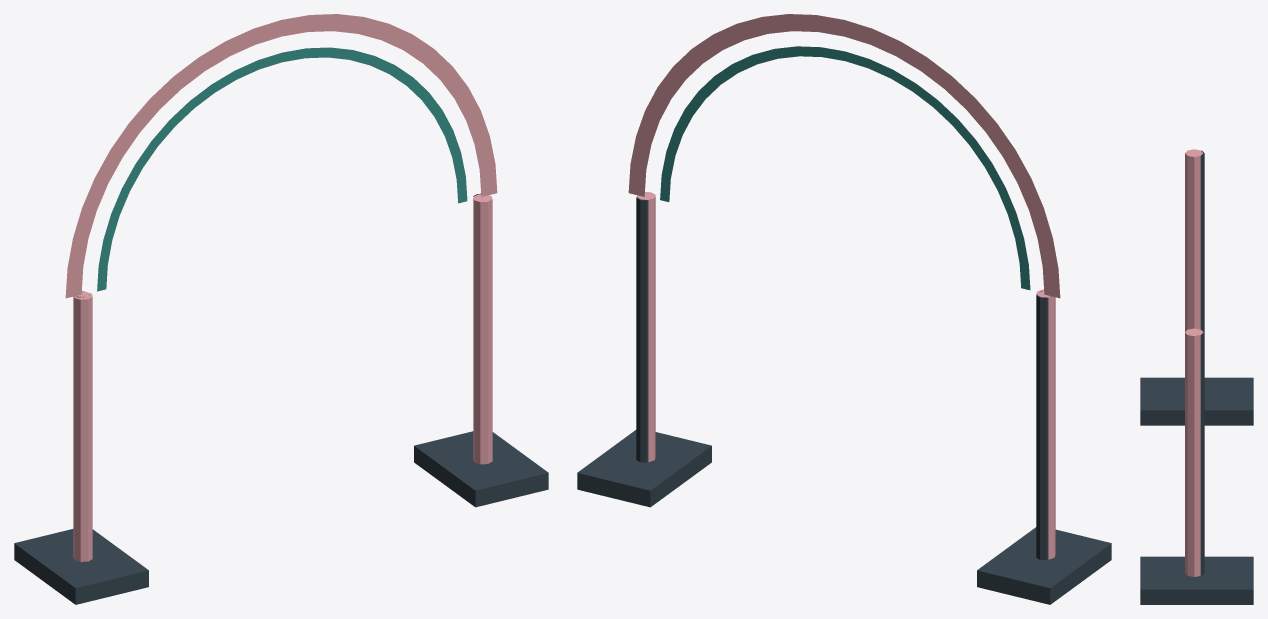
Rendered from neon_arch.glb.
3 renders of one model, left to right at view 1: azimuth 30°, elevation 25°; view 2: azimuth 150°, elevation 25°; view 3: azimuth 270°, elevation 25°, orthographic. The views are drawn at different scales.
Parts seen in each view (by area): view 1: neon_crown, foot.001, foot, inner_glow, neon_upright.001, neon_upright; view 2: neon_crown, foot.001, foot, inner_glow, post, post.001, neon_upright.001, neon_upright; view 3: foot.001, foot, neon_upright.001, neon_upright, post.001, post.
Part boxes in pixels (x1,y1,x2,y2): neon_crown: [65, 14, 497, 298]; foot.001: [414, 431, 548, 507]; foot: [14, 529, 148, 604]; inner_glow: [97, 47, 467, 291]; neon_upright.001: [473, 194, 492, 464]; neon_upright: [73, 291, 92, 561]; neon_crown: [628, 14, 1060, 298]; foot.001: [577, 430, 711, 507]; foot: [977, 527, 1111, 604]; inner_glow: [660, 46, 1030, 290]; post: [1036, 291, 1050, 560]; post.001: [636, 197, 648, 462]; neon_upright.001: [636, 192, 655, 462]; neon_upright: [1036, 289, 1055, 559]; foot.001: [1140, 556, 1253, 604]; foot: [1140, 377, 1253, 425]; neon_upright.001: [1185, 328, 1202, 576]; neon_upright: [1185, 149, 1202, 331]; post.001: [1200, 330, 1204, 575]; post: [1200, 150, 1204, 331].
Bounding box in the file's own units: 3.55 × 3.62 × 0.8.
